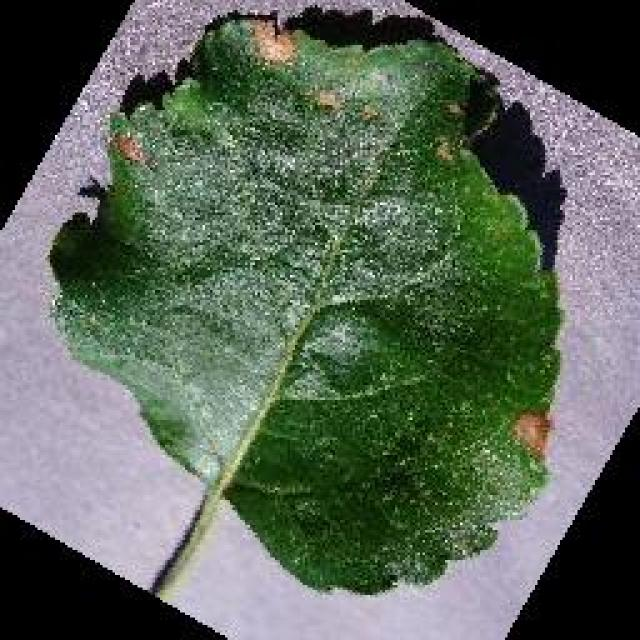Black_rot: (45, 10, 563, 600)
